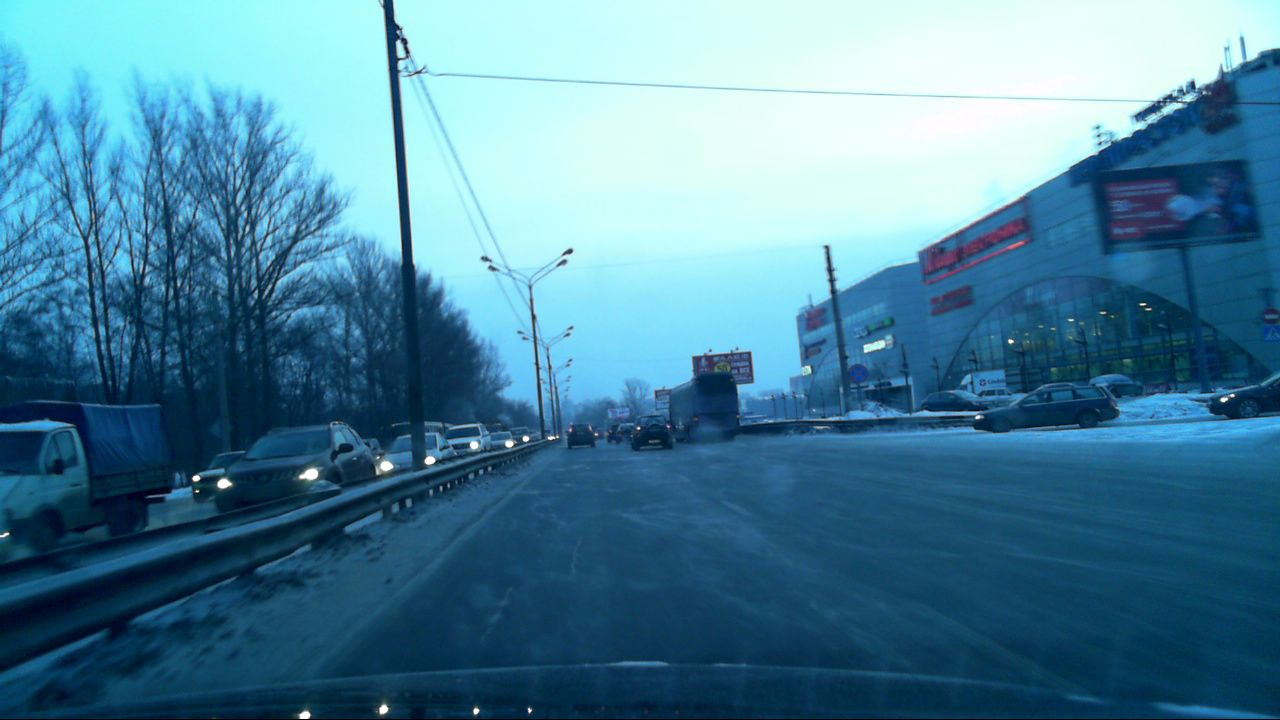No Parking: (848, 363, 868, 384)
